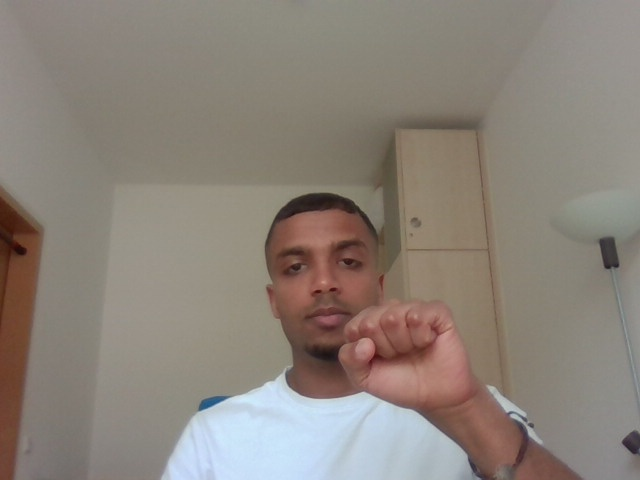maybe: (331, 289, 488, 422)
